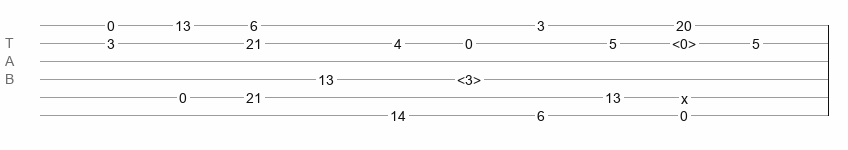0: (107, 18, 115, 28), (179, 90, 187, 100), (465, 36, 473, 46), (680, 108, 688, 118)
13: (175, 18, 191, 28), (318, 72, 334, 82), (605, 90, 621, 100)
14: (390, 108, 406, 118)
20: (676, 18, 692, 28)
21: (246, 36, 262, 46), (246, 90, 262, 100)
3: (107, 36, 115, 46), (537, 18, 545, 28)
4: (394, 36, 402, 46)
5: (609, 36, 617, 46), (752, 36, 760, 46)
6: (250, 18, 258, 28), (537, 108, 545, 118)
harmonic: (457, 72, 481, 82), (672, 36, 696, 46)
x: (681, 91, 688, 99)
